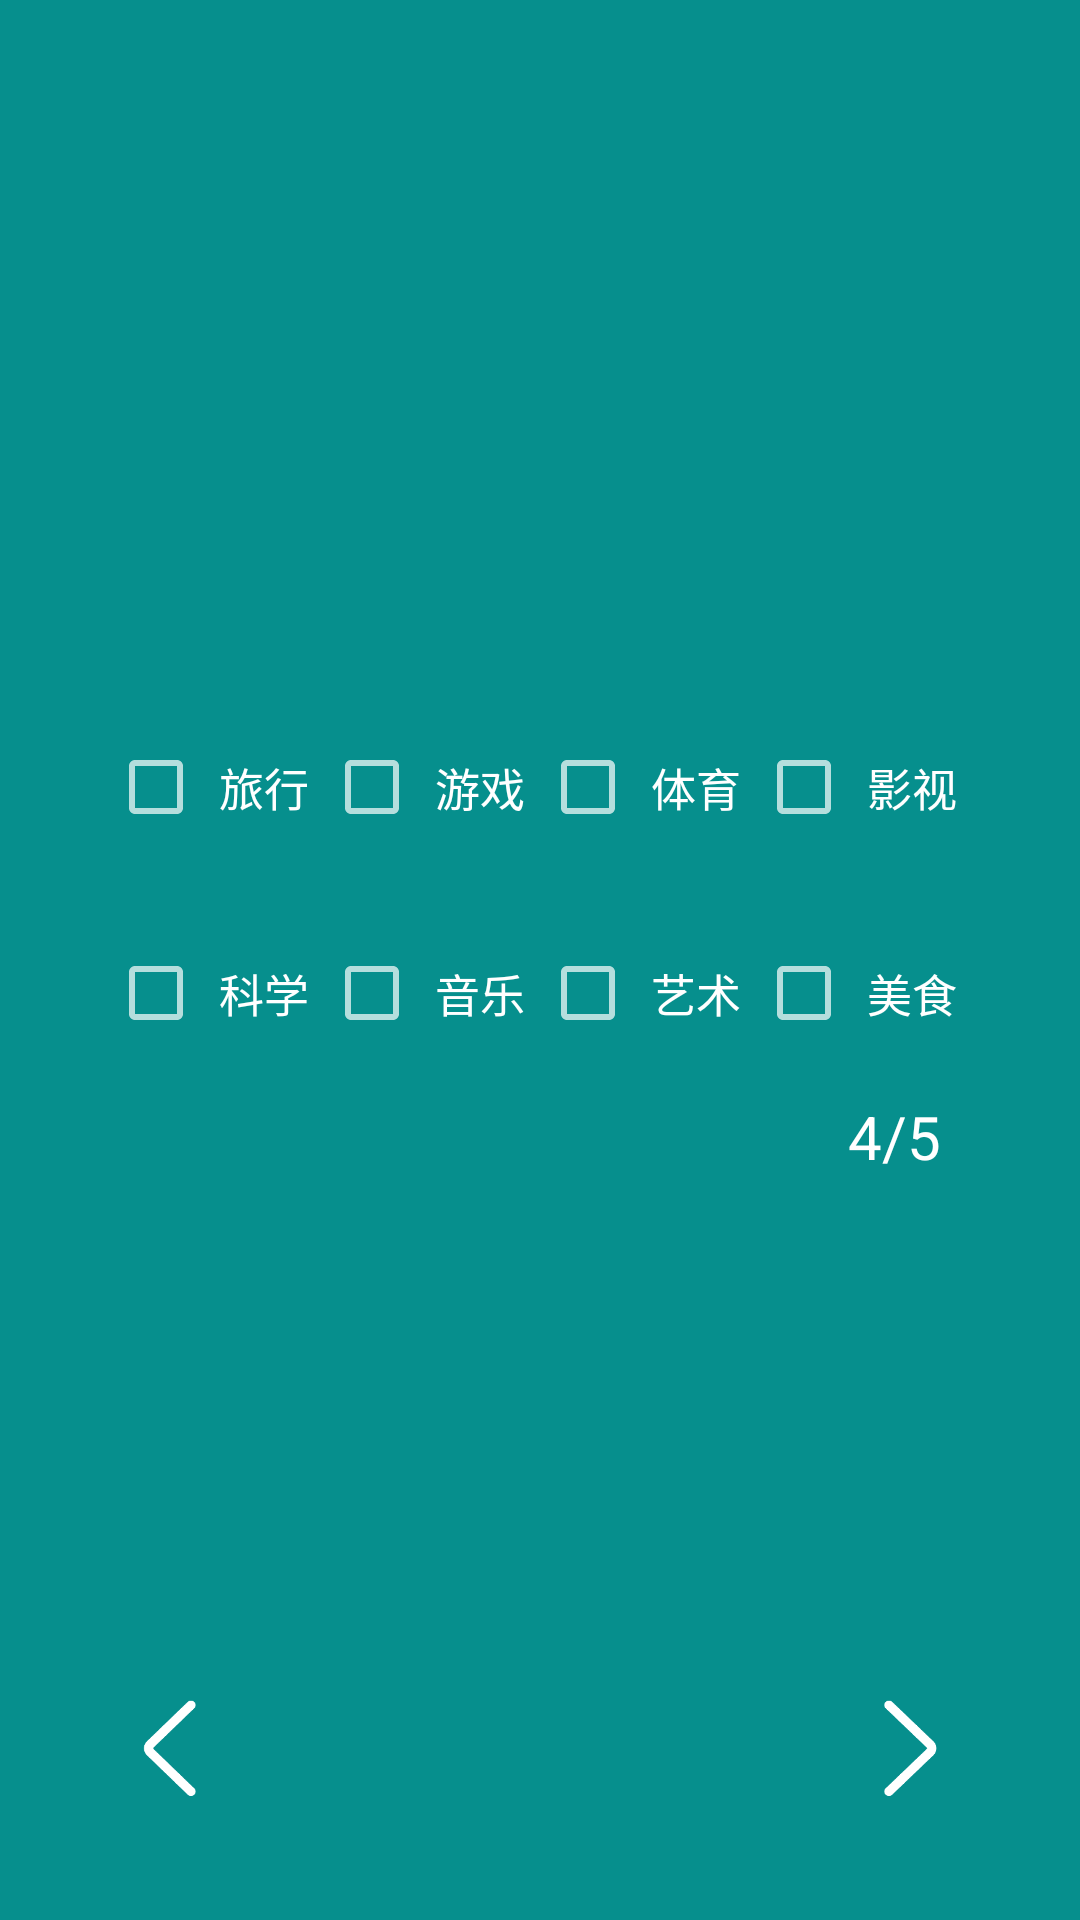

Point at icon controls on the screen. Image size 1080px×1920px, points as (x,y).
question press left: (170,1748)
question press right: (910,1748)
